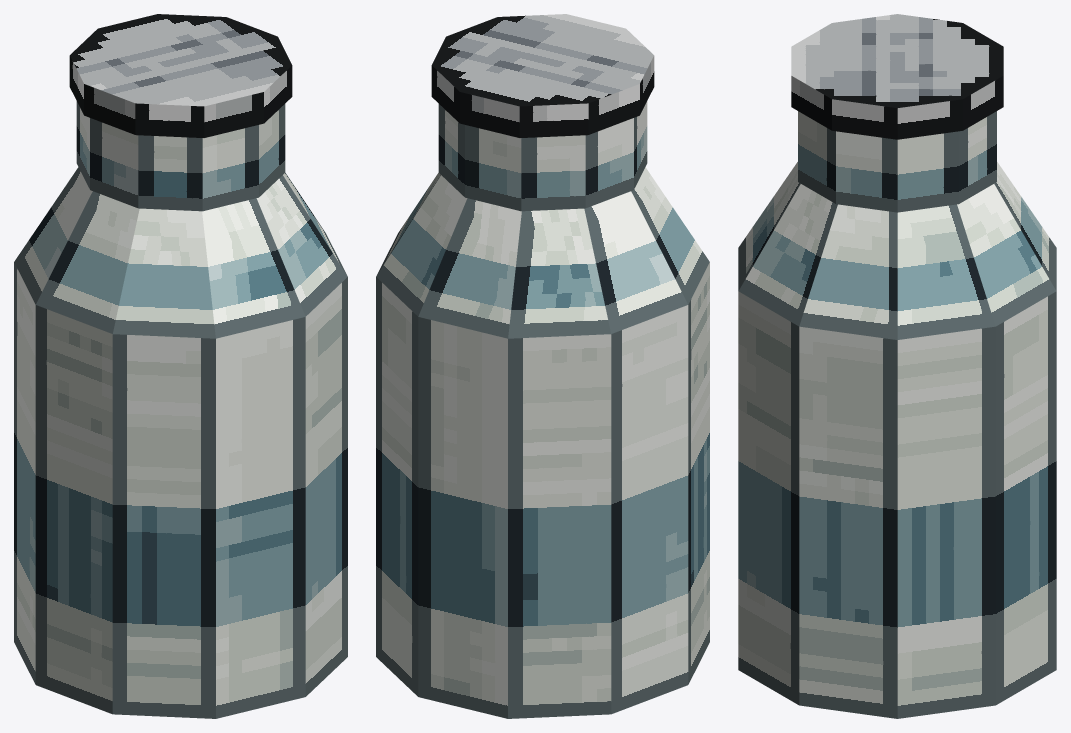
File: milk.glb
3 renders of one model, left to right at view 1: azimuth 30°, elevation 25°; view 2: azimuth 150°, elevation 25°; view 3: azimuth 270°, elevation 25°, orthographic.
Parts seen in each view (by area): view 1: bottle, shoulder, cap, neck; view 2: bottle, shoulder, cap, neck; view 3: bottle, shoulder, cap, neck.
Part boxes in pixels (box(x1,y1,x2,y2)): bottle: box(14, 262, 347, 718); shoulder: box(14, 167, 347, 338); cap: box(69, 14, 292, 137); neck: box(76, 101, 285, 211); bottle: box(376, 262, 709, 718); shoulder: box(376, 167, 709, 338); cap: box(431, 14, 654, 137); neck: box(438, 101, 647, 211); bottle: box(738, 291, 1056, 718); shoulder: box(738, 162, 1056, 339); cap: box(791, 14, 1003, 139); neck: box(798, 111, 996, 212).
Size of the model in its own units: 0.24 by 0.465 by 0.2283.
Materials: 1 (1 with a texture image).
